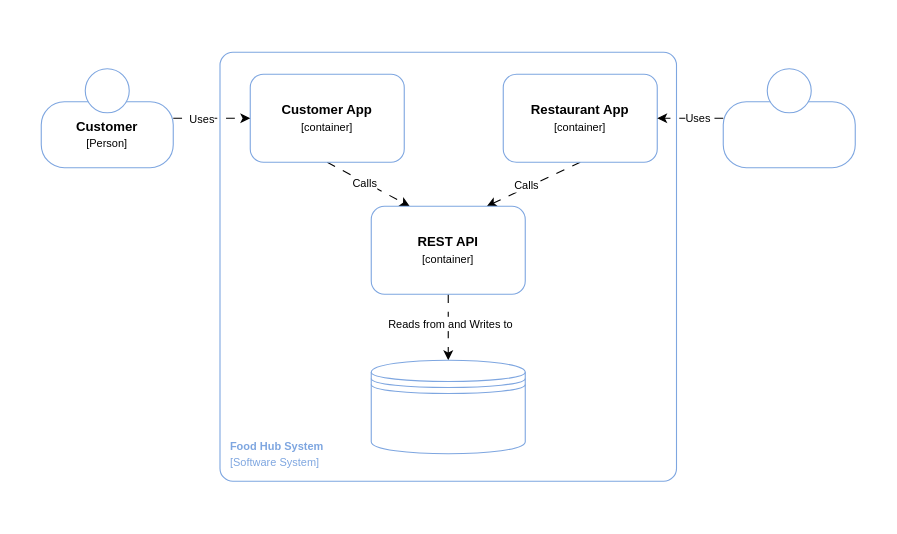
Image size: 897x534. Some labels were removed from this diagram. The shapes that lost their labels are listed below. From the top down, each one's centre as x and y in pixels, then its label:
the point at 788,134: Restaurant [Person]
the point at 447,406: Database [container]
